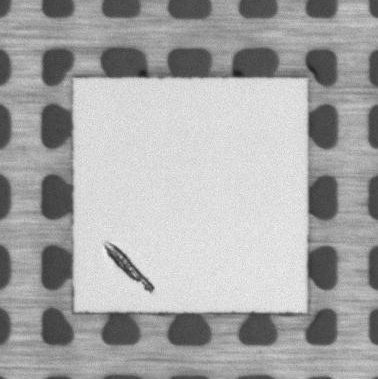DIE_INK: (99, 239, 159, 299)
